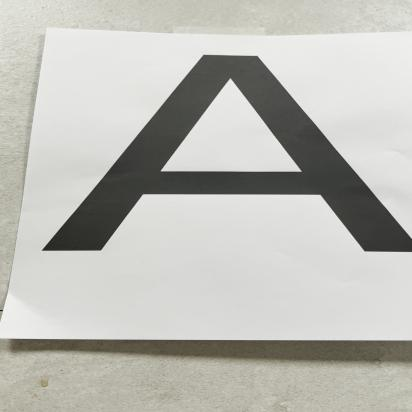seat: (38, 35, 412, 261)
